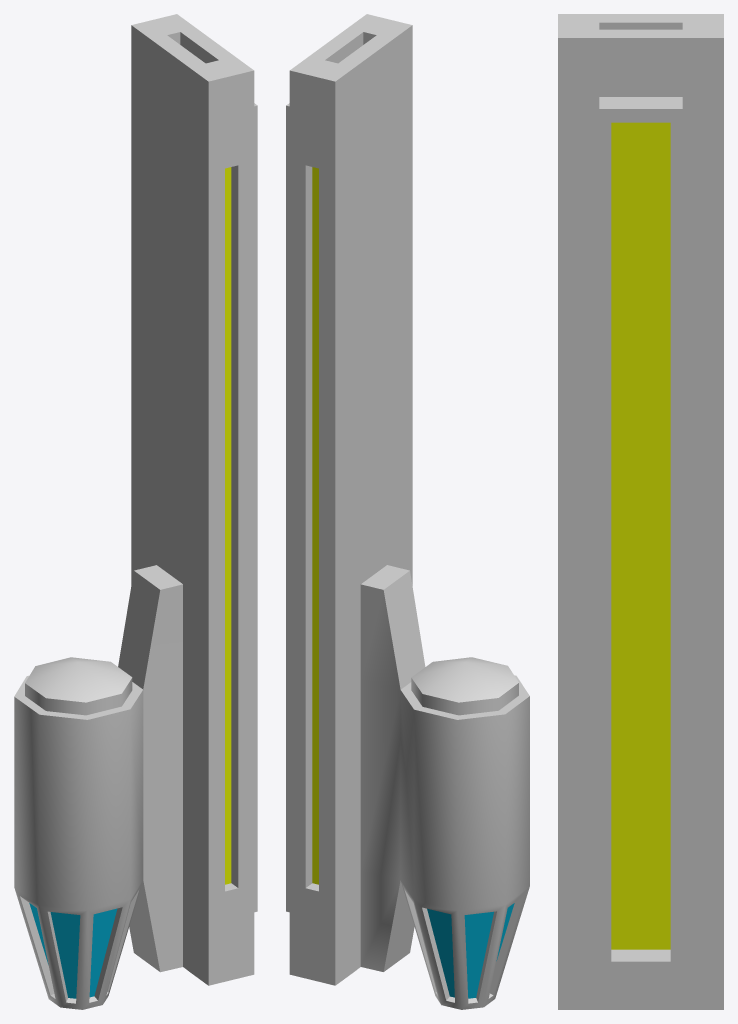
Rendered from Gravity Portal.FBX.
3 renders of one model, left to right at view 1: azimuth 30°, elevation 25°; view 2: azimuth 150°, elevation 25°; view 3: azimuth 270°, elevation 25°, orthographic. The views are drawn at different scales.
Visible parts, largest first — view 1: Gravity Portal; view 2: Gravity Portal; view 3: Gravity Portal.
Boxes of the visible parts, x1=… form: Gravity Portal: x1=14, y1=14, x2=257, y2=1009; Gravity Portal: x1=286, y1=14, x2=529, y2=1009; Gravity Portal: x1=558, y1=14, x2=723, y2=1009.
Bounding box in the file's own units: 92.84 × 385 × 58.51.
